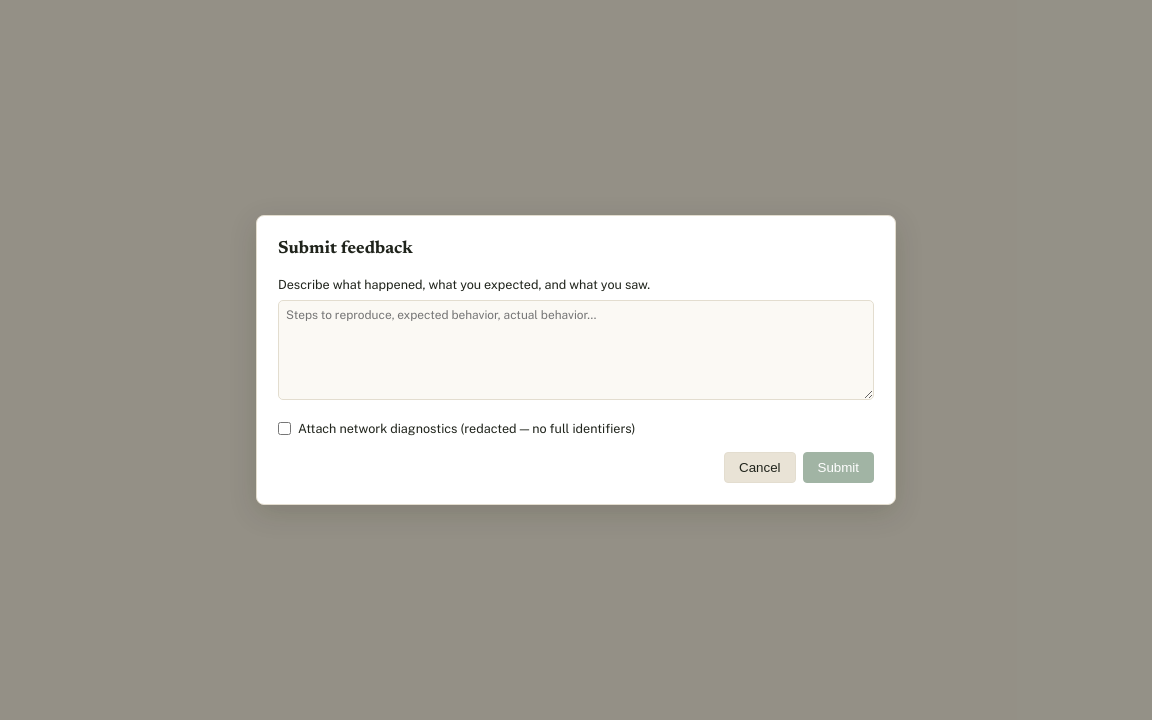
Scenario: FeedbackModal › toggle ON fetches network_health_export_payload(includeFullIds:false) + shows preview
Click the checkbox with test id "feedback-attach-toggle".
click(284, 429)  # box top-left (278, 422), bottom-right (291, 435)
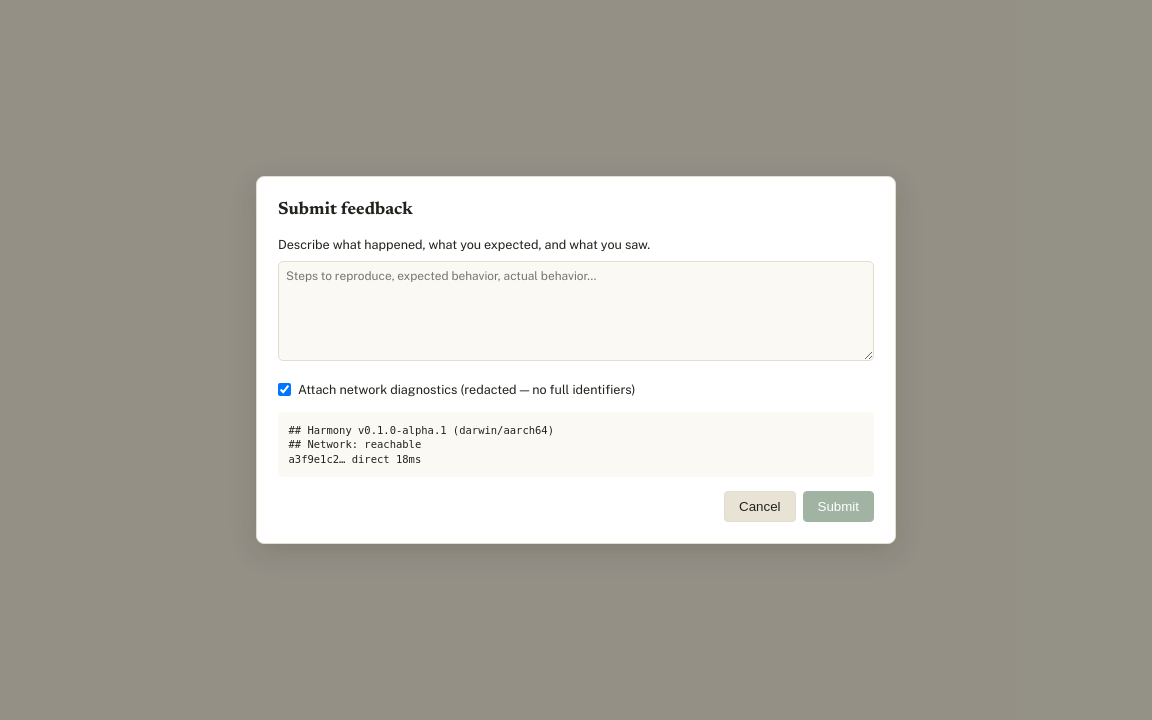
Expected: the text with test id "feedback-diagnostics-preview" is shown, top-left (278, 412), bottom-right (874, 477)
Expected: the text with test id "feedback-diagnostics-preview" shows "Harmony v0.1.0-alpha.1", top-left (288, 424), bottom-right (554, 465)
